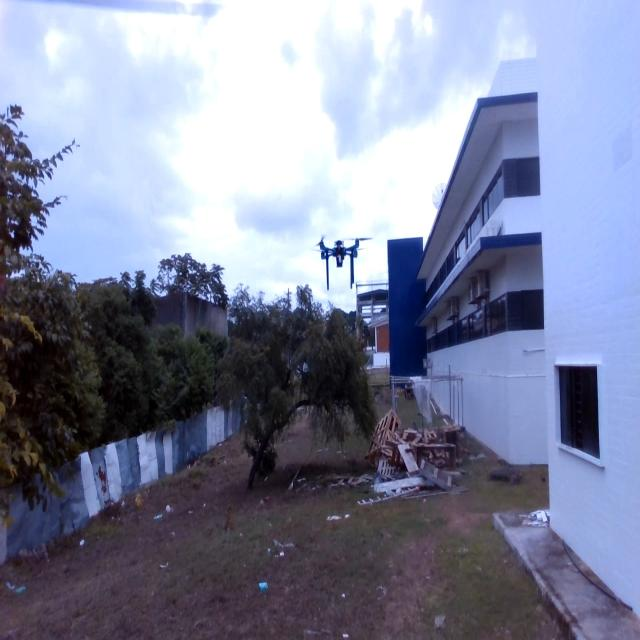-uav-: (305, 225, 379, 295)
